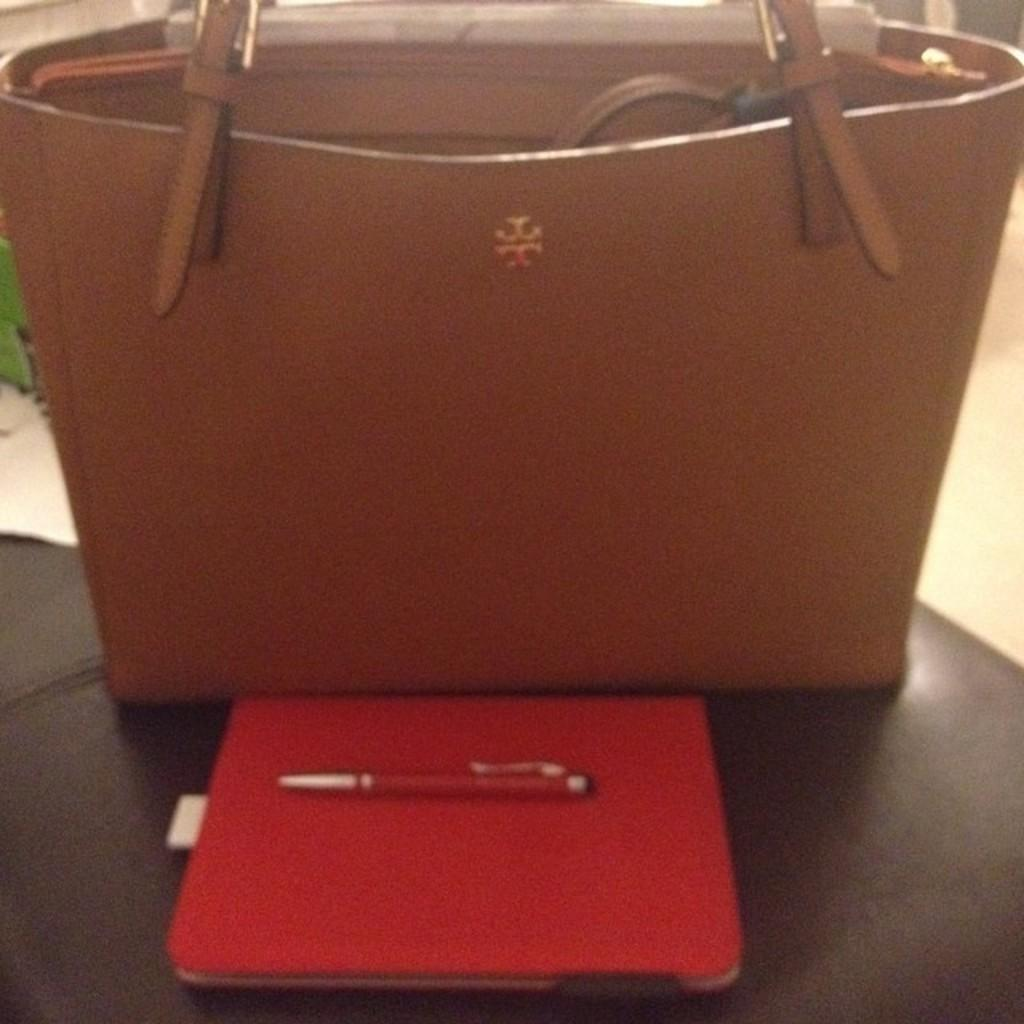pen: (274, 754, 598, 798)
